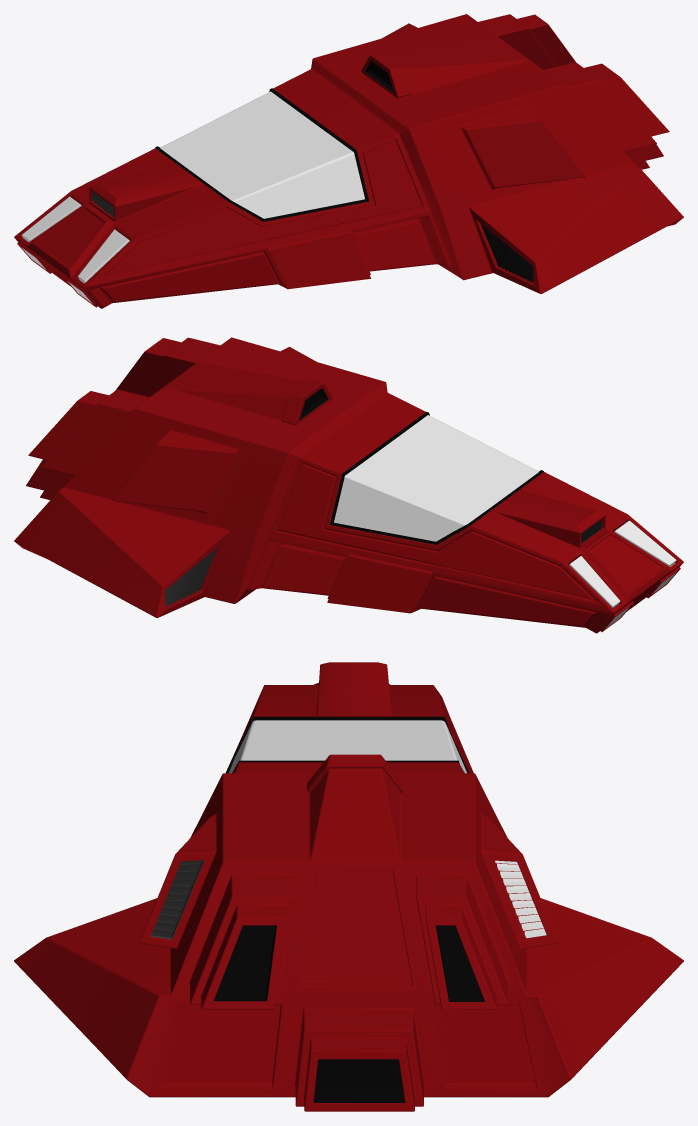
Rendered from NaveTest5.fbx.
3 renders of one model, top to bottom at view 1: azimuth 30°, elevation 25°; view 2: azimuth 150°, elevation 25°; view 3: azimuth 270°, elevation 25°, orthographic. The views are drawn at different scales.
Parts seen in each view (by area): view 1: Cube, Cube.001, Plastico, Cube.003, Cube.008; view 2: Cube, Cube.001, Plastico, Cube.002, Cube.008; view 3: Cube, Cube.001, Plastico, Cube.006, Cube.005.
Part boxes in pixels (bbox=[...]): Cube: bbox=[14, 14, 683, 308]; Cube.001: bbox=[160, 91, 364, 218]; Plastico: bbox=[155, 88, 369, 221]; Cube.003: bbox=[481, 224, 533, 282]; Cube.008: bbox=[17, 242, 97, 307]; Cube: bbox=[14, 337, 683, 633]; Cube.001: bbox=[334, 415, 539, 541]; Plastico: bbox=[330, 412, 543, 544]; Cube.002: bbox=[165, 547, 217, 606]; Cube.008: bbox=[600, 567, 680, 631]; Cube: bbox=[14, 662, 683, 1111]; Cube.001: bbox=[229, 720, 466, 773]; Plastico: bbox=[226, 716, 468, 773]; Cube.006: bbox=[495, 860, 546, 938]; Cube.005: bbox=[151, 860, 202, 937].
Size of the model in its own units: 1966 by 513 by 1464.
